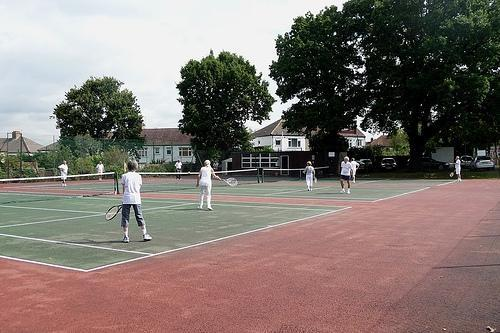car: (470, 156, 495, 171), (378, 158, 398, 172), (460, 155, 474, 167)
